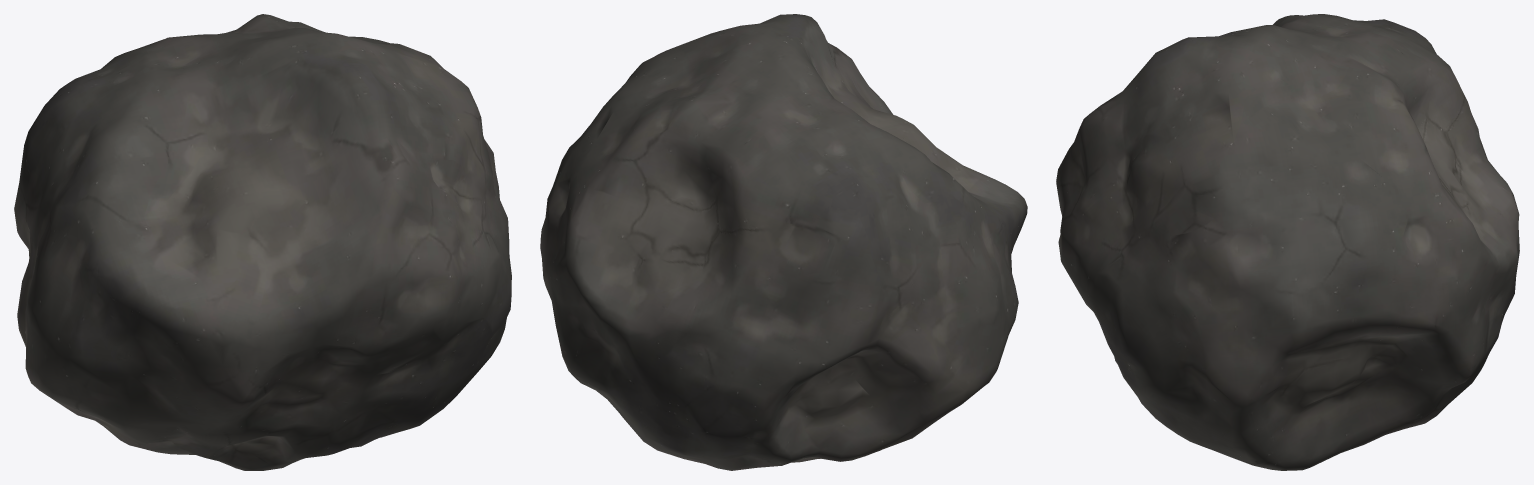
The model's file is asteroid_5.glb.
3 views of the same model, side by side, from view 1: azimuth 30°, elevation 25°; view 2: azimuth 150°, elevation 25°; view 3: azimuth 270°, elevation 25° (orthographic). The views are drawn at different scales.
Parts seen in each view (by area): view 1: lod0; view 2: lod0; view 3: lod0.
Part boxes in pixels (left/top/right/bottom): lod0: left=14, top=14, right=511, bottom=470; lod0: left=540, top=14, right=1027, bottom=470; lod0: left=1056, top=14, right=1519, bottom=470.
Size of what is drawn, in the model's own units: 250 by 225 by 231.
1 material, 1 textured.
